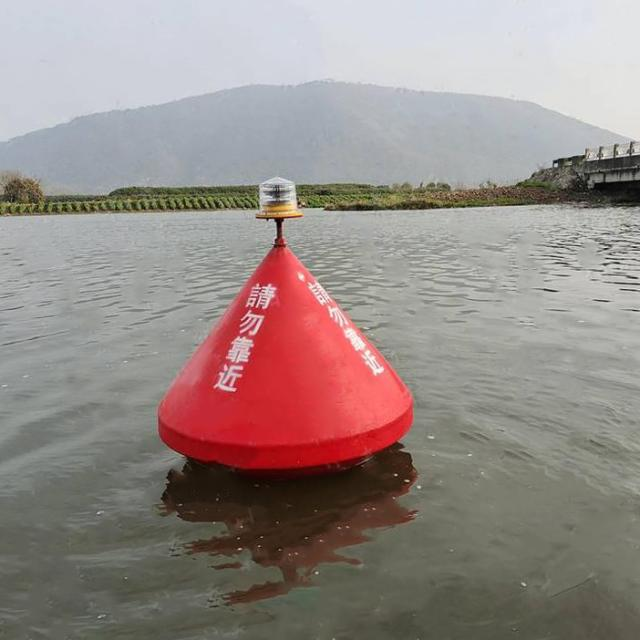buoy: (151, 174, 408, 472)
